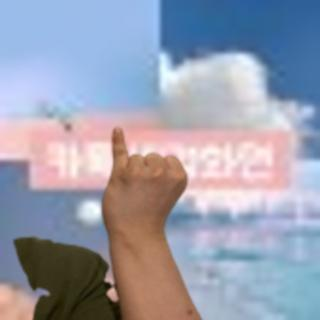FINE: (96, 126, 194, 248)
